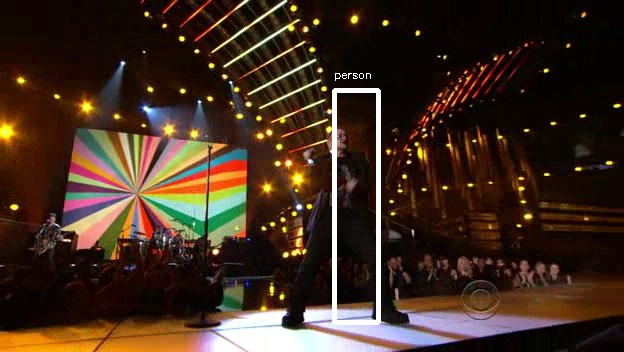person: (309, 126, 375, 246), (306, 126, 372, 246), (312, 126, 378, 246), (309, 123, 375, 243), (309, 129, 375, 249)
target_negative: (222, 68, 456, 322), (189, 107, 468, 298), (430, 236, 560, 314), (411, 194, 553, 252), (423, 290, 597, 305)
